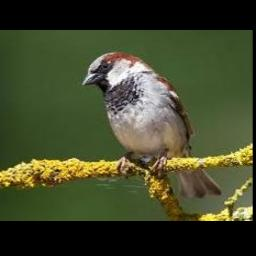Sparrow: (81, 51, 222, 198)
